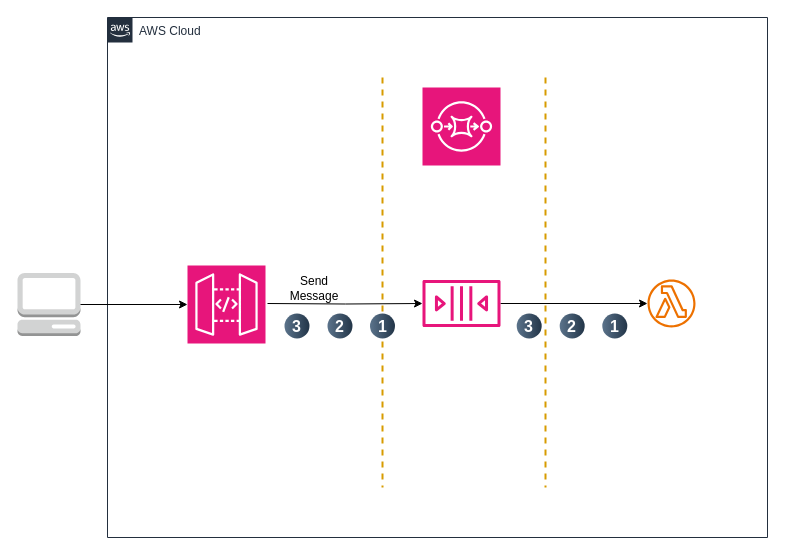
This 785x555 diagram has some shape labels left out. Each missing label, with the centre of its shape:
Lmbda: [671,303]
SQS: [461,126]
SQS Queue FIFO: [461,303]
Web: [48,304]
